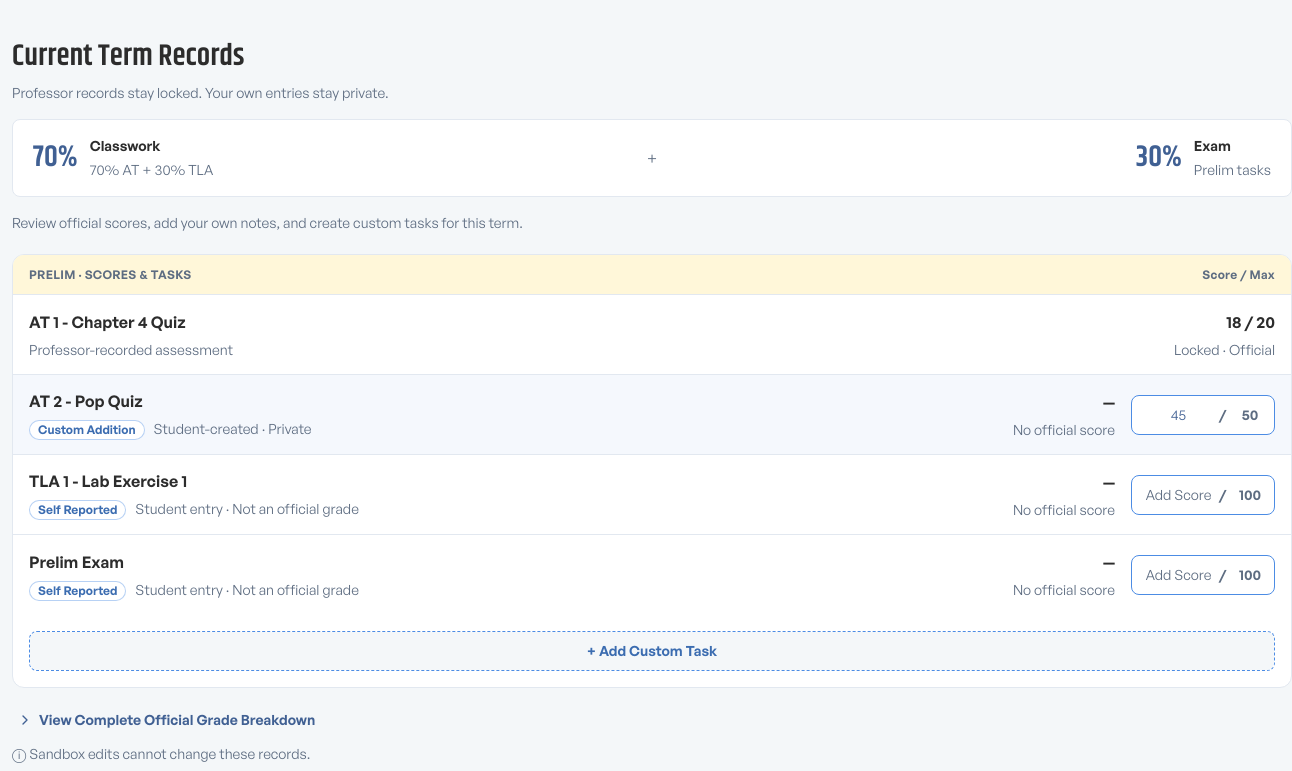
Test case: adding a custom task › adds the task to the chosen criterion
This screenshot has width=1292, height=771.
Click the button "+ Add Custom Task" at (652, 651), box top-left (29, 631), bottom-right (1275, 671)
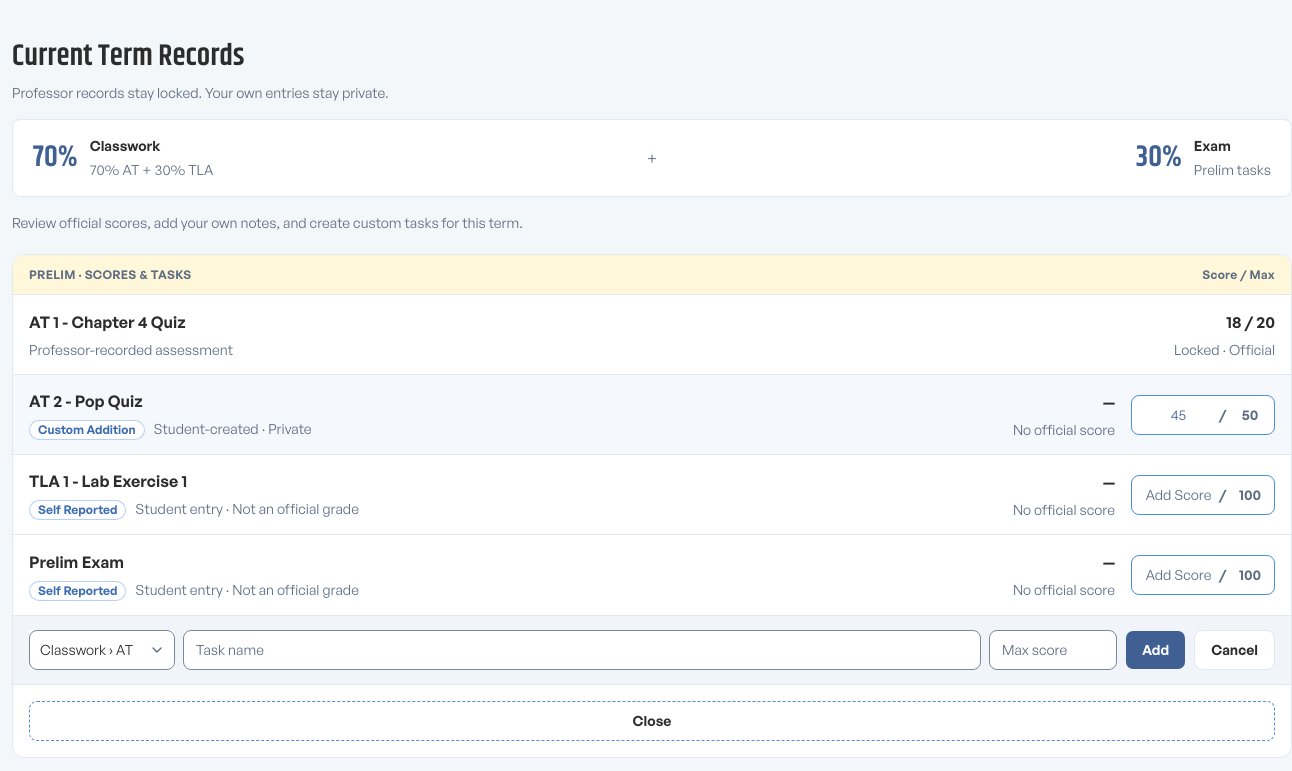
Select "Exam" in the dropdown named "Sandbox task category" at (102, 650), box top-left (29, 630), bottom-right (175, 670)
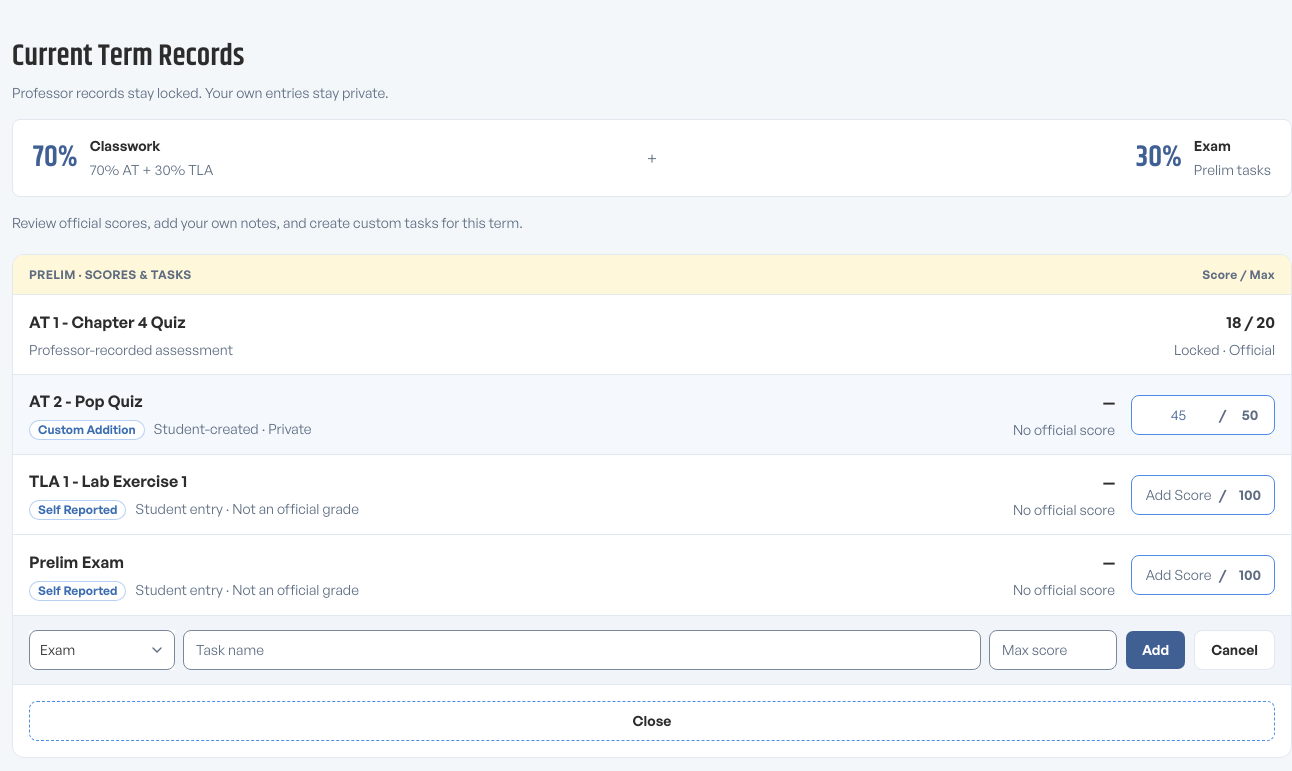
Type "Exam bonus" into the field named "Sandbox task name" at (582, 650), box top-left (183, 630), bottom-right (981, 670)
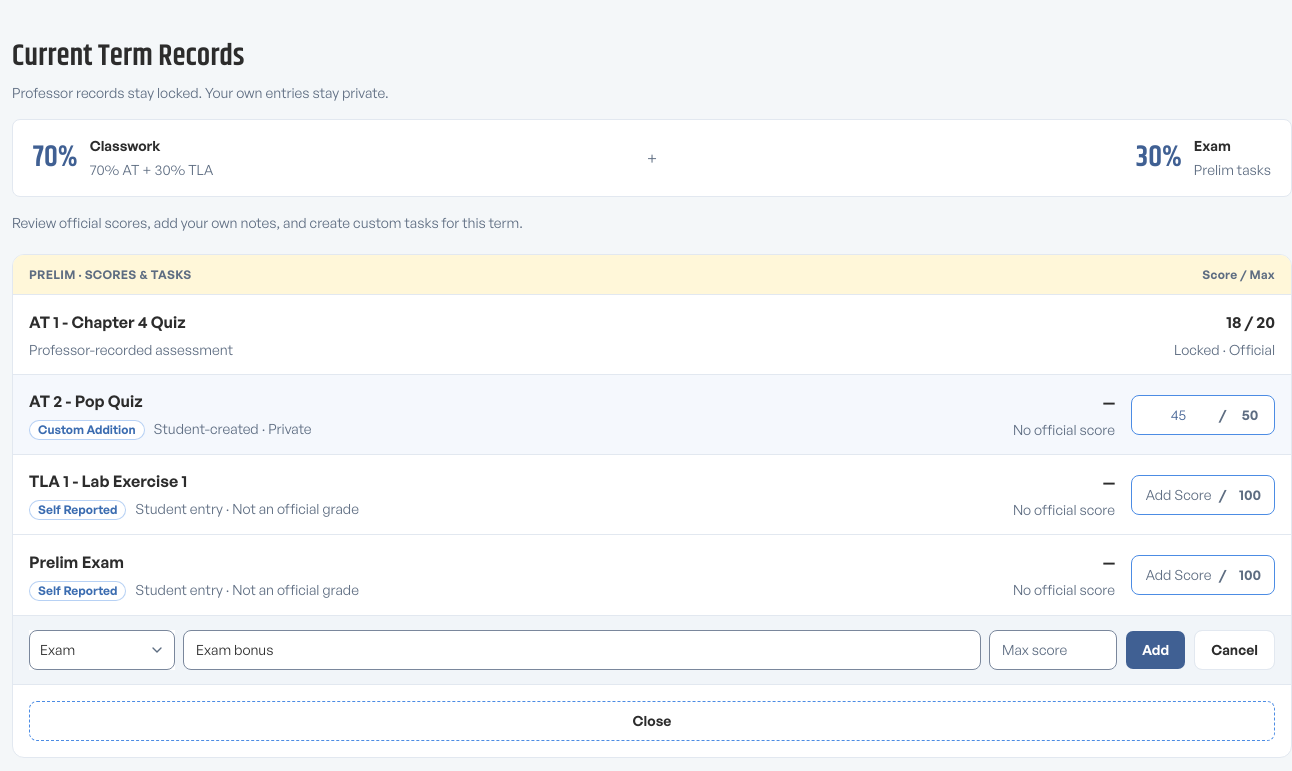
Type "10" into the field named "Maximum score" at (1053, 650), box top-left (989, 630), bottom-right (1117, 670)
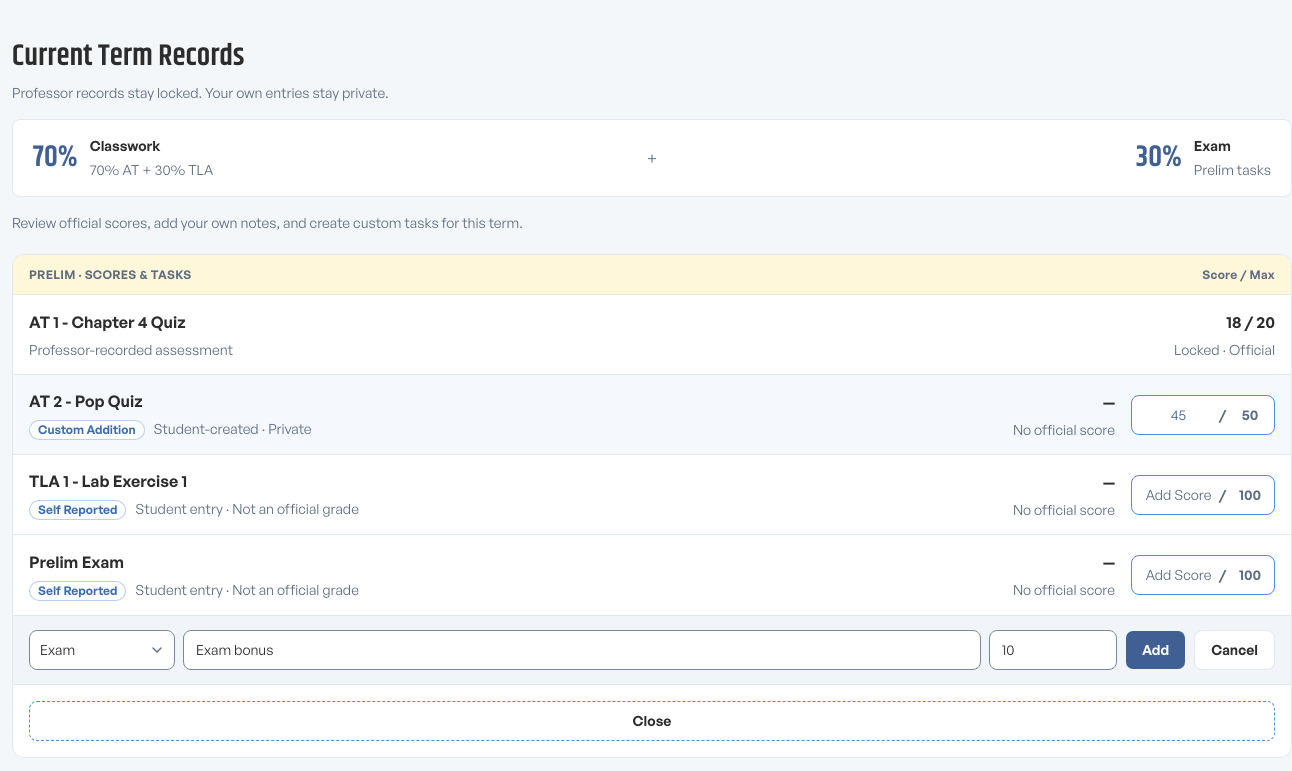
Submit the form, box top-left (13, 615), bottom-right (1291, 685)
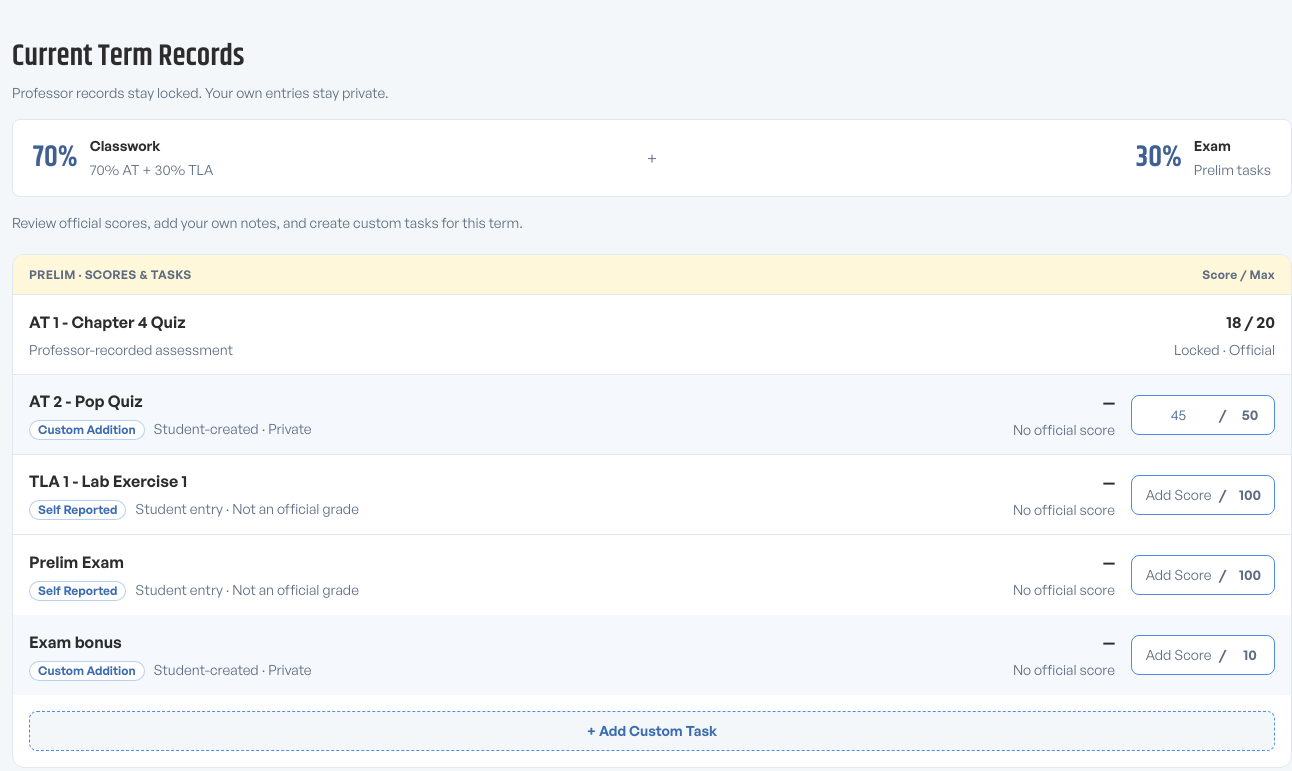
expect the field named "Private score for Exam bonus" is shown: met, box top-left (1132, 635), bottom-right (1219, 675)
